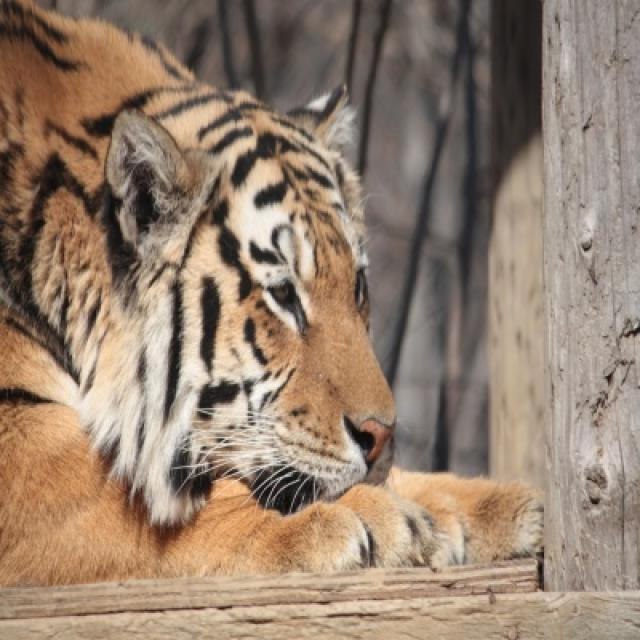Tiger: (0, 0, 549, 584)
